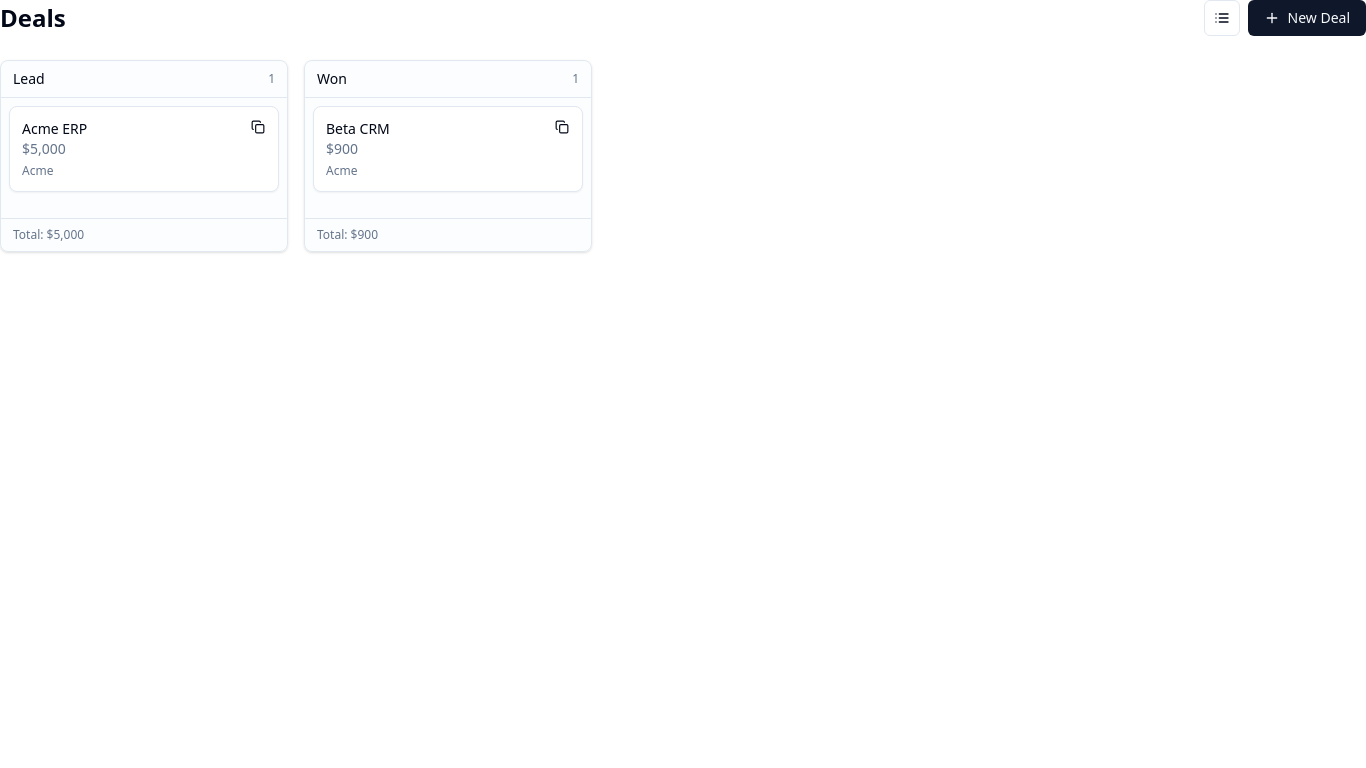
Test case: Duplicating a deal from the deals page › offers a copy button on each row in the table view too, without opening the row
Expected: the text "Acme ERP" is shown, top-left (22, 119), bottom-right (87, 139)
Click the button named "Toggle view": [1222, 18] box top-left (1204, 0), bottom-right (1240, 36)
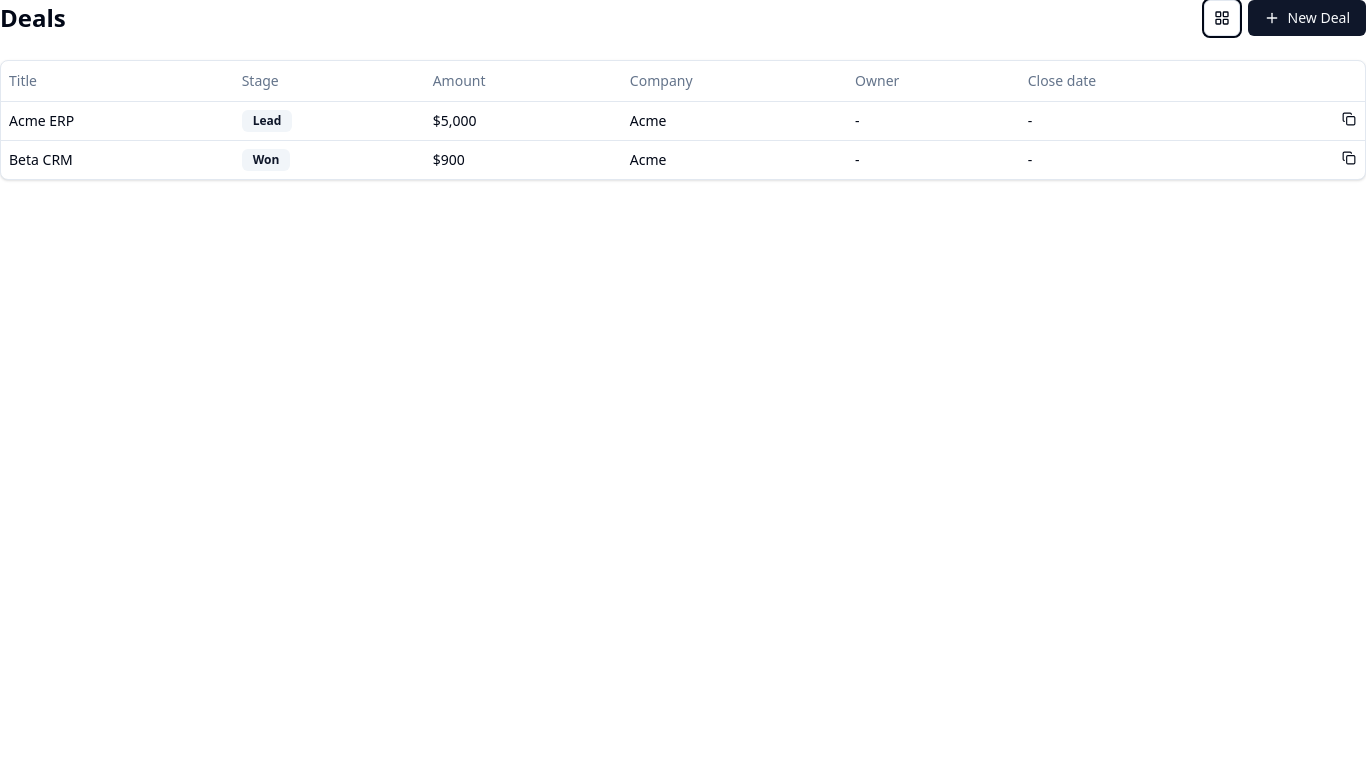
Click the button named "Duplicate deal: Acme ERP": [1349, 118] box top-left (1337, 106), bottom-right (1361, 130)
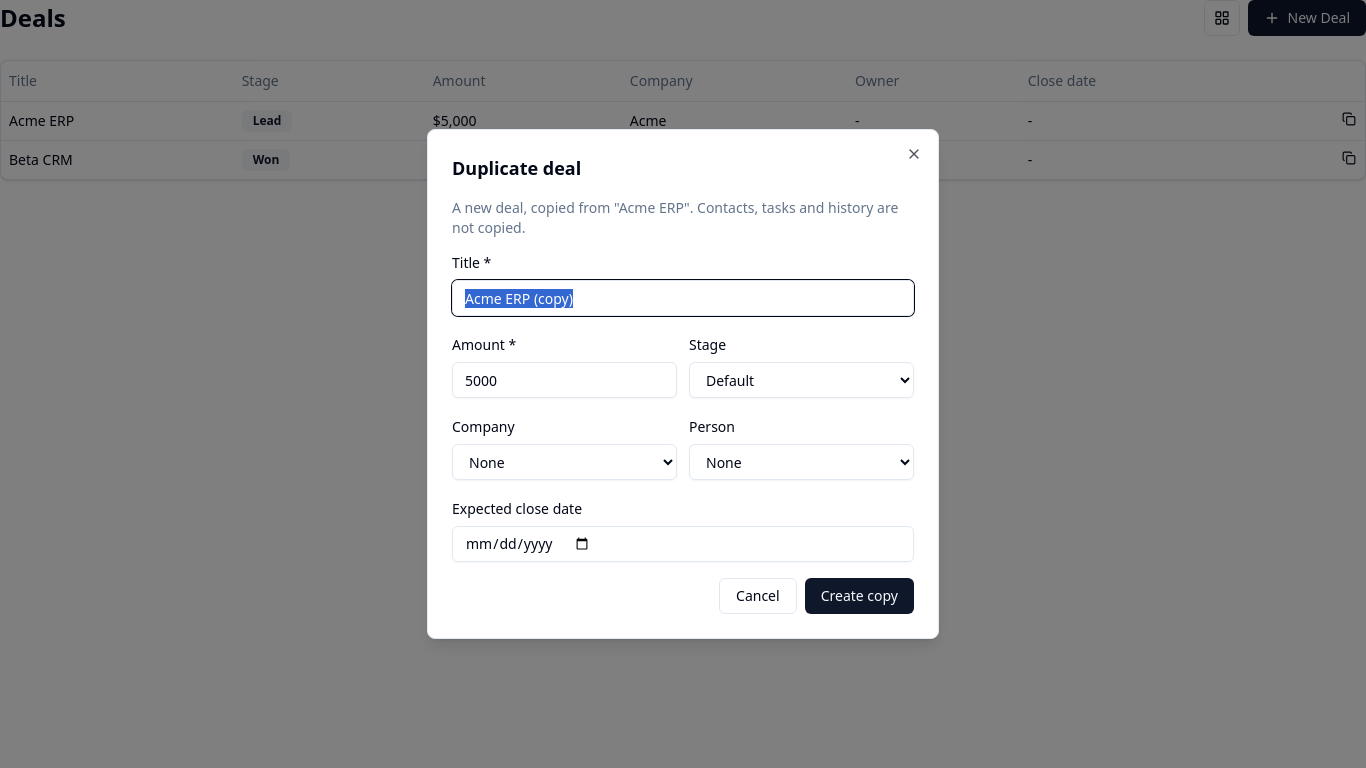
Expected: the heading "Deals" is shown, top-left (0, 2), bottom-right (66, 34)
Result: the field labelled "Title *" holds "Acme ERP (copy)" at top-left (452, 280), bottom-right (914, 316)
